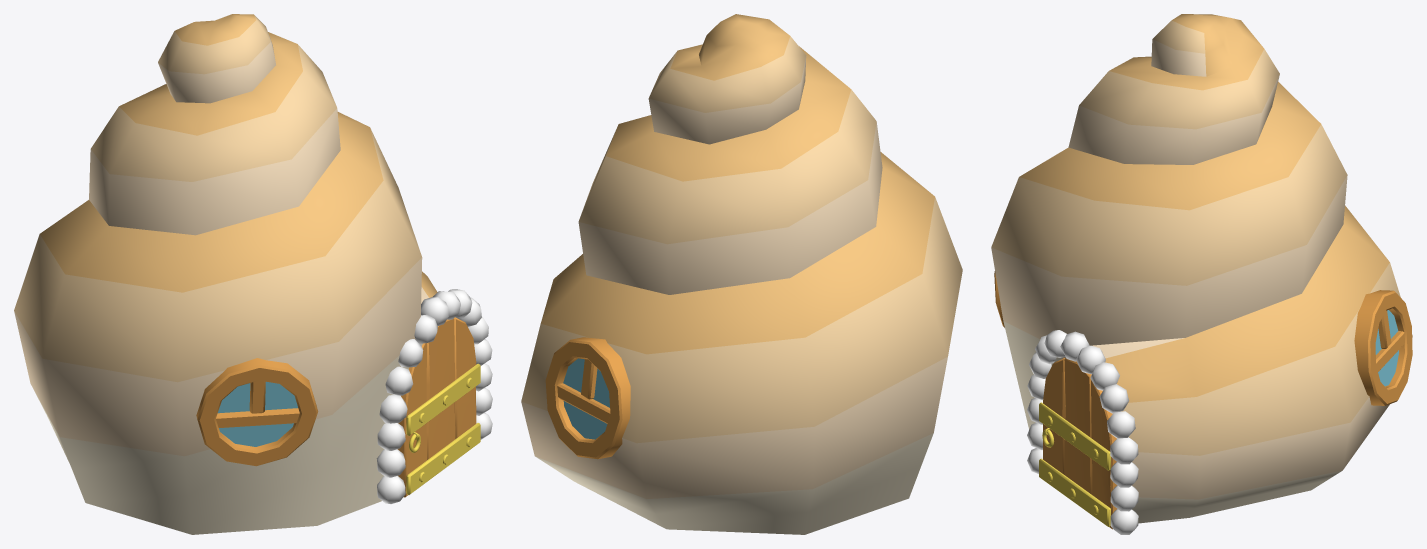
Rendered from House_1.fbx.
3 views of the same model, side by side, from view 1: azimuth 30°, elevation 25°; view 2: azimuth 150°, elevation 25°; view 3: azimuth 270°, elevation 25° (orthographic). The views are drawn at different scales.
Parts seen in each view (by area): view 1: House_1; view 2: House_1; view 3: House_1.
Boxes of the visible parts, left/top/right/bottom form: House_1: left=14, top=14, right=492, bottom=534; House_1: left=521, top=14, right=962, bottom=534; House_1: left=991, top=14, right=1412, bottom=534.
Size of the model in its own units: 1.73 by 1.76 by 1.6.
